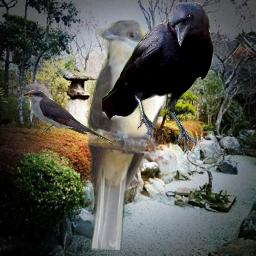Crow: (102, 2, 214, 155)
Cuckoo: (84, 20, 168, 250), (22, 90, 115, 146)
